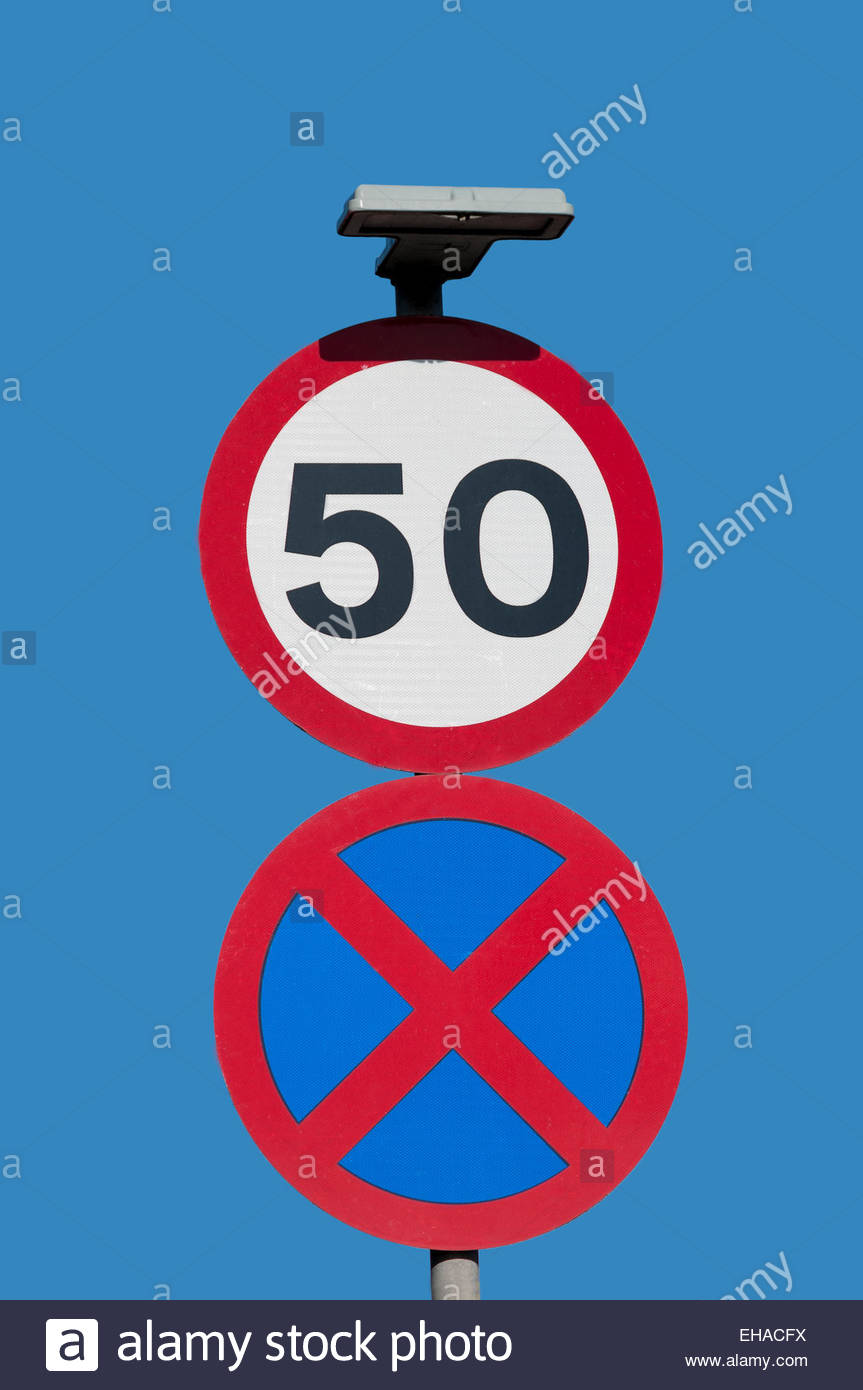Speed_limit_50km: (202, 319, 668, 769)
